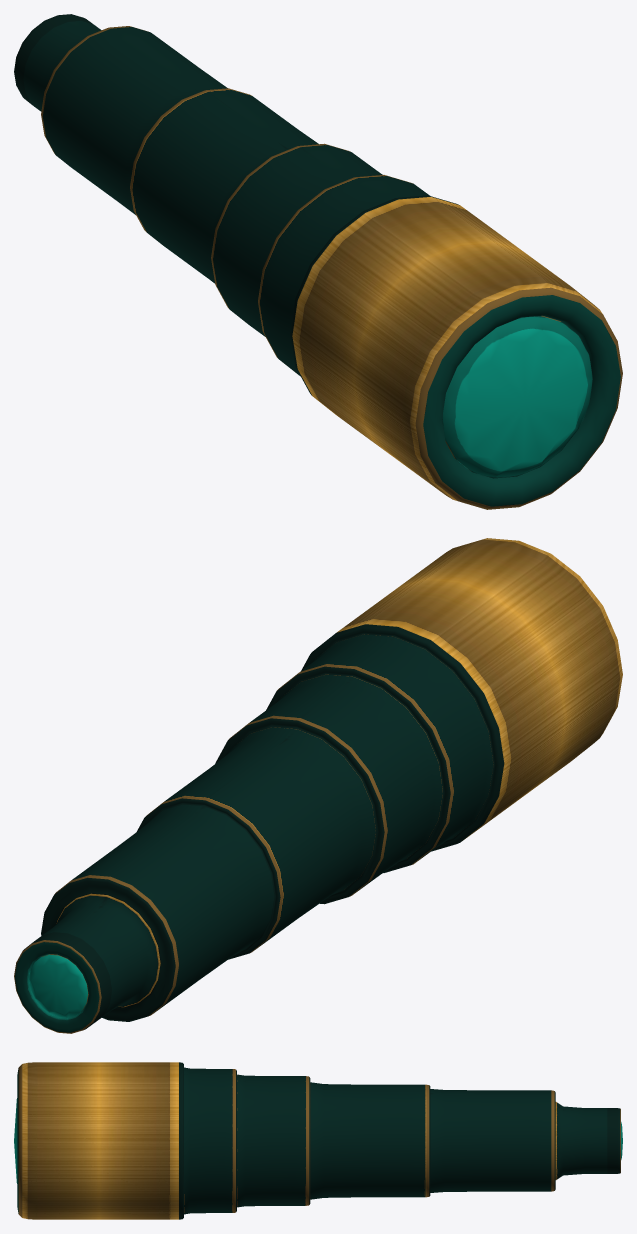
Rendered from luneta.fbx.
3 views of the same model, one above another, from view 1: azimuth 30°, elevation 25°; view 2: azimuth 150°, elevation 25°; view 3: azimuth 270°, elevation 25° (orthographic). The views are drawn at different scales.
Parts seen in each view (by area): view 1: pCylinder1; view 2: pCylinder1; view 3: pCylinder1.
Boxes of the visible parts, x1,y1,x2,y2 form: pCylinder1: (14, 14, 622, 509); pCylinder1: (14, 538, 622, 1033); pCylinder1: (14, 1062, 622, 1219).
Size of the model in its own units: 1.9 by 1.9 by 7.31.
Materials: 1 (1 with a texture image).
